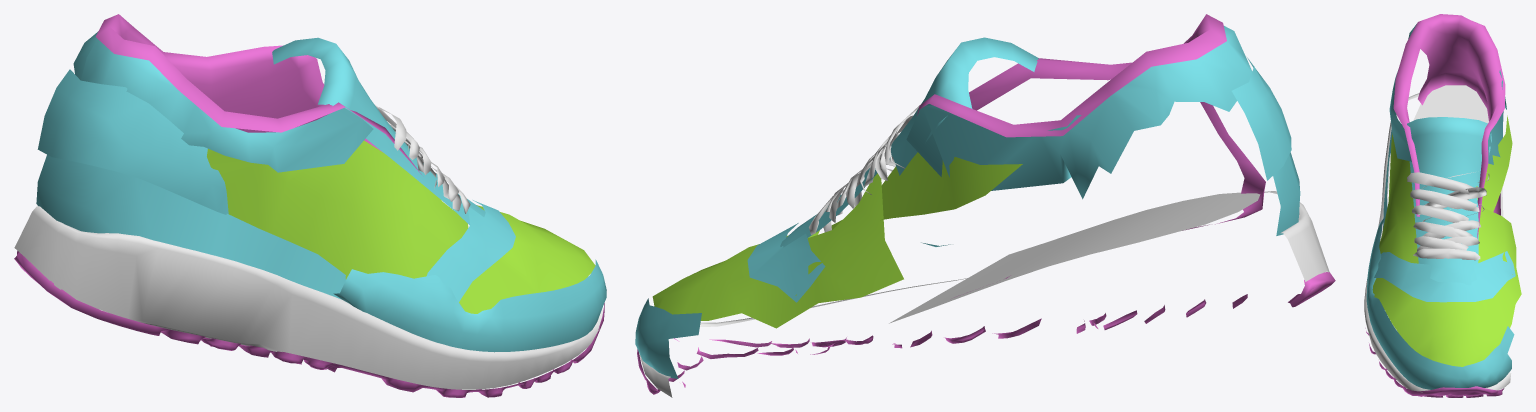
File: shoe-transformed.glb
3 renders of one model, left to right at view 1: azimuth 30°, elevation 25°; view 2: azimuth 150°, elevation 25°; view 3: azimuth 270°, elevation 25°, orthographic. The views are drawn at different scales.
Visible parts, largest first — view 1: shoeBlue, shoeWhite, shoeGreen, shoePink; view 2: shoeBlue, shoeGreen, shoePink, shoeWhite; view 3: shoeBlue, shoeGreen, shoePink, shoeWhite.
Part boxes in pixels (x1=…): shoeBlue: x1=36, y1=32, x2=606, y2=352; shoeWhite: x1=14, y1=104, x2=602, y2=389; shoeGreen: x1=207, y1=140, x2=595, y2=313; shoePink: x1=14, y1=14, x2=604, y2=397; shoeBlue: x1=635, y1=26, x2=1300, y2=378; shoeGreen: x1=652, y1=152, x2=1022, y2=328; shoePink: x1=637, y1=14, x2=1335, y2=394; shoeWhite: x1=639, y1=104, x2=1329, y2=397; shoeBlue: x1=1366, y1=24, x2=1515, y2=389; shoeGreen: x1=1372, y1=115, x2=1521, y2=366; shoePink: x1=1365, y1=14, x2=1505, y2=397; shoeWhite: x1=1364, y1=85, x2=1511, y2=392.
Size of the model in its own units: 29.36 by 19.4 by 11.07.
